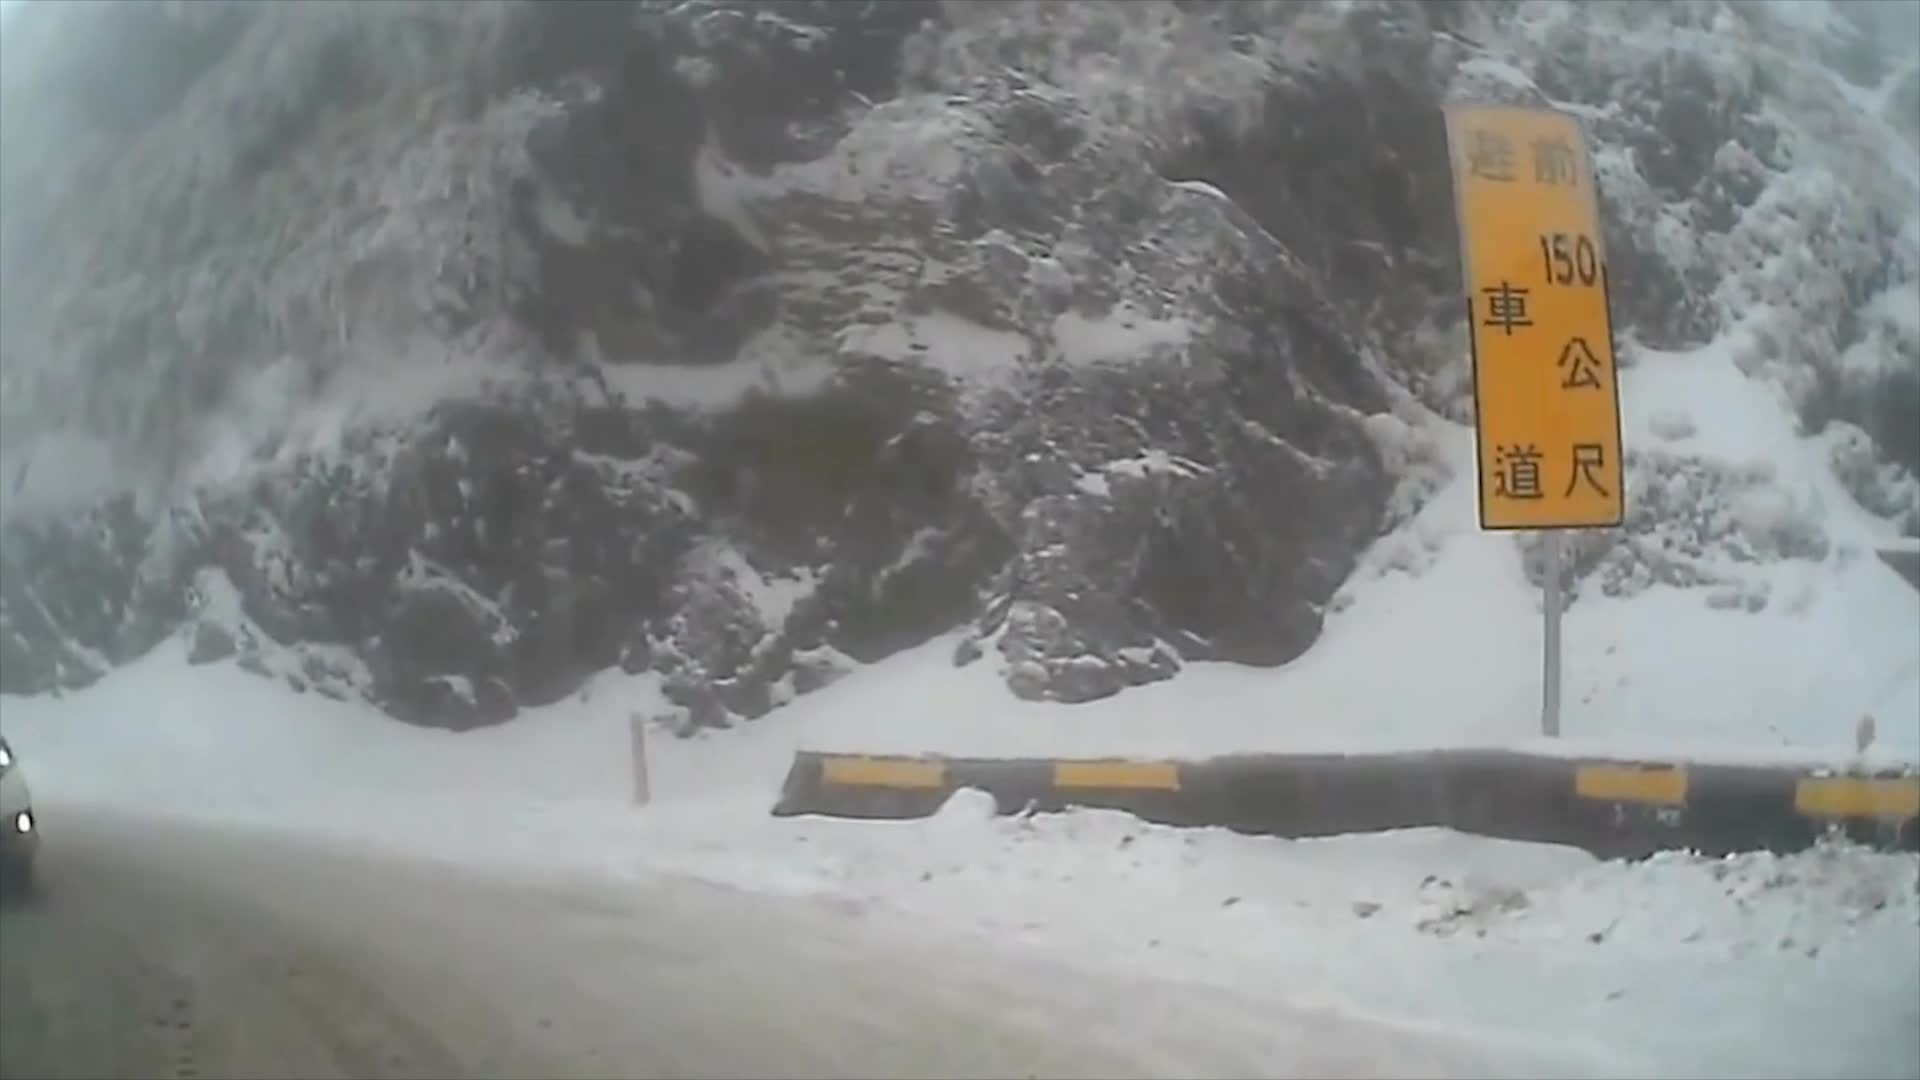vehicle: (0, 736, 38, 907)
